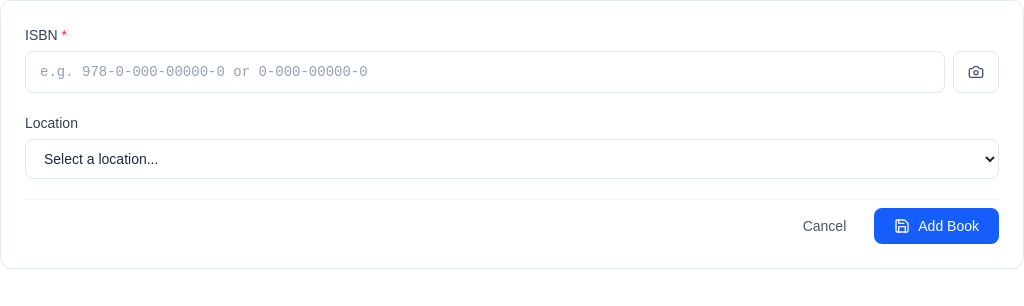
it: BookFromISBNForm — validation › shows validation error when ISBN is empty on submit
The width and height of the screenshot is (1024, 306).
Click the button "Add Book" at (937, 226), box [874, 208, 999, 244]
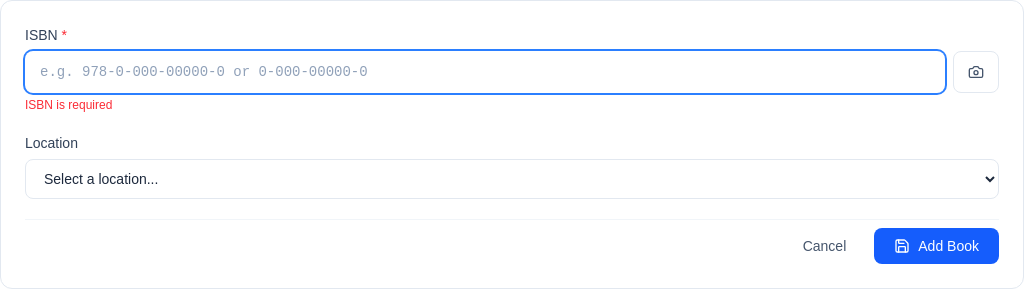
Check: the text "ISBN is required" is shown, box [25, 98, 112, 112]
